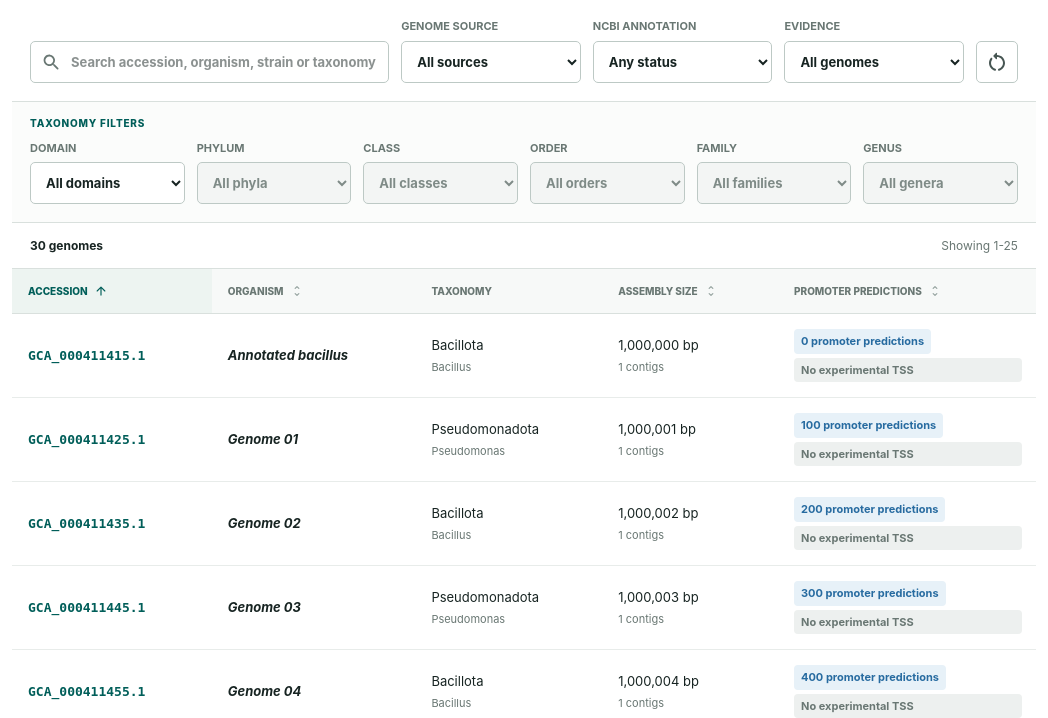
Scenario: portal genome explorer › keeps rows and exposes a retry action after an API error
Type "error" into the field with placeholder "Search accession, organism, strain or taxonomy" at (210, 62), box [30,40,389,82]
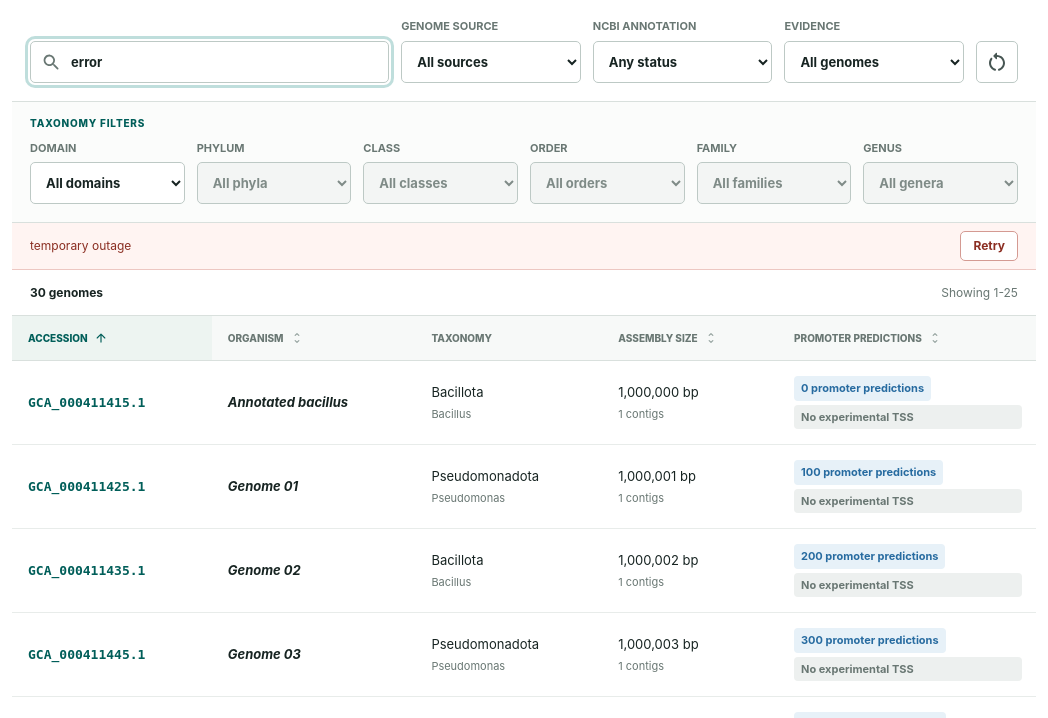
Expected: the link "GCA_000411415.1" is shown, [28,395,145,410]
Expected: the message "temporary outage Retry" is shown, [12,223,1036,270]
Expected: the button "Retry" is shown, [960,231,1018,261]
